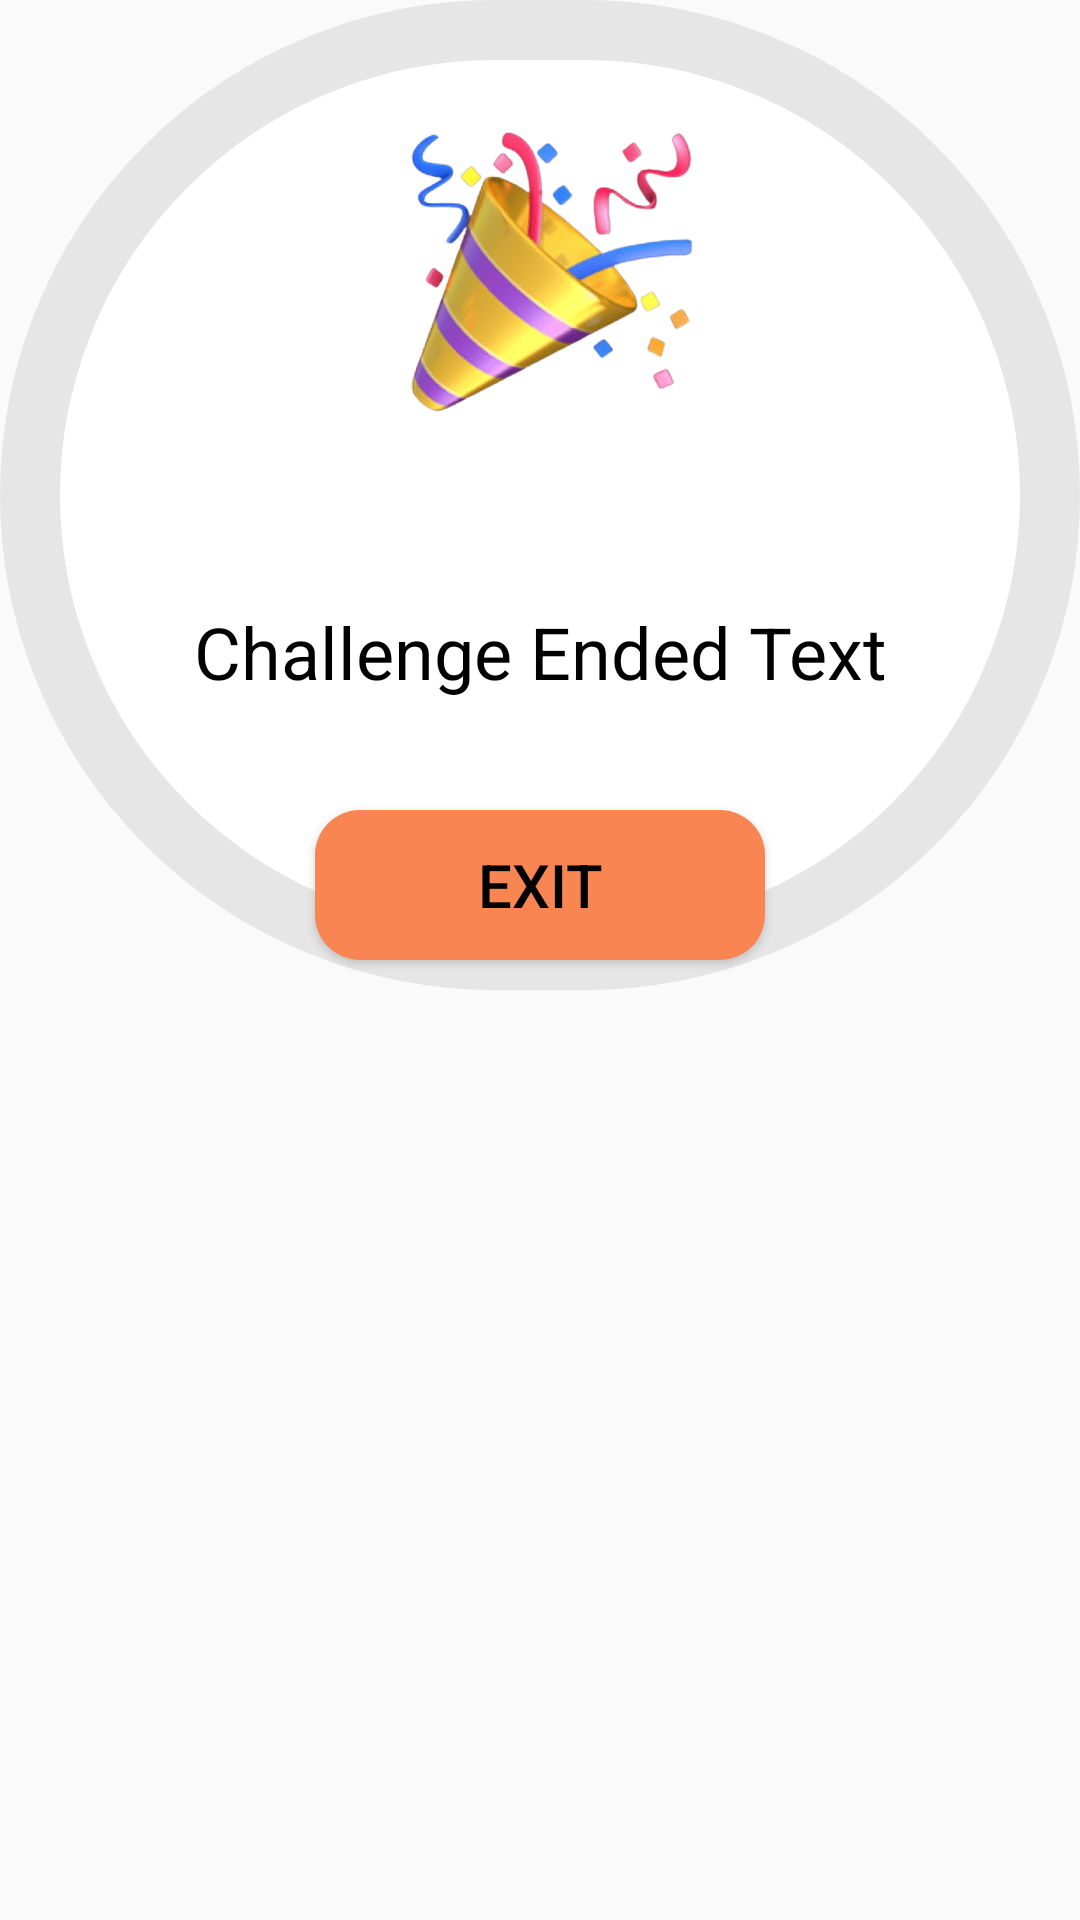

Named icons in this screenshot (1080px x 1920px) and their bounding boxes, detection(x1, y1, x2, y2):
celebrate: detection(411, 132, 692, 411)
